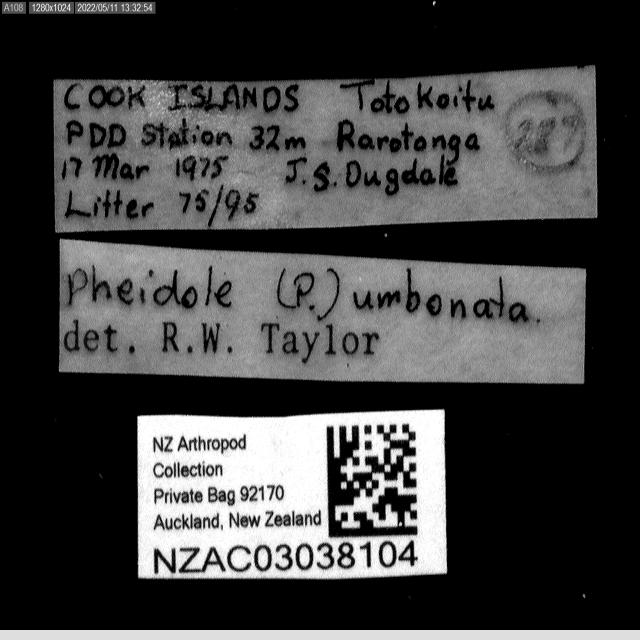hand_label: (54, 66, 598, 233)
mixed_label: (59, 239, 586, 383)
typed_label: (138, 409, 446, 578)
